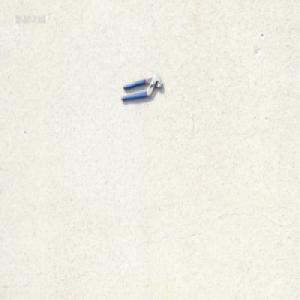Pliers: (120, 73, 163, 102)
